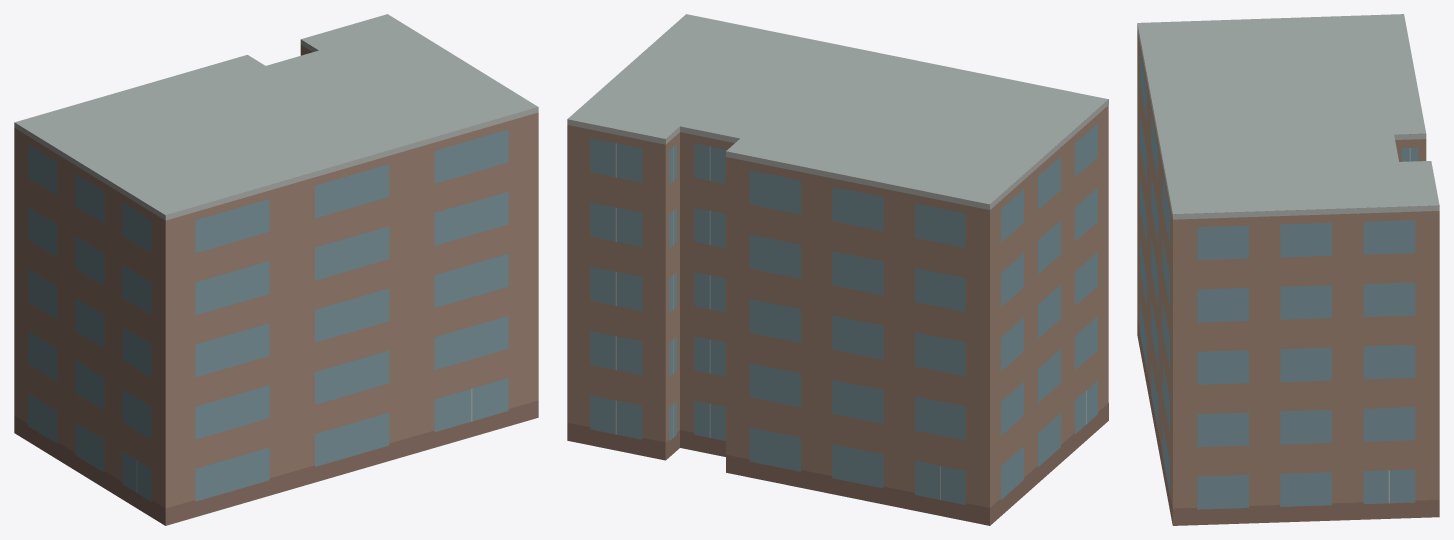
Rendered from survey-upis-33006111.glb.
3 renders of one model, left to right at view 1: azimuth 30°, elevation 25°; view 2: azimuth 150°, elevation 25°; view 3: azimuth 270°, elevation 25°, orthographic. The views are drawn at different scales.
Visible parts, largest first — view 1: survey-upis-33006111.tmp; view 2: survey-upis-33006111.tmp; view 3: survey-upis-33006111.tmp.
Part boxes in pixels (<box>): survey-upis-33006111.tmp: <box>14,14,538,525</box>; survey-upis-33006111.tmp: <box>567,14,1108,525</box>; survey-upis-33006111.tmp: <box>1137,14,1439,525</box>.
Bounding box in the file's own units: 19.15 × 13.9 × 12.23.
